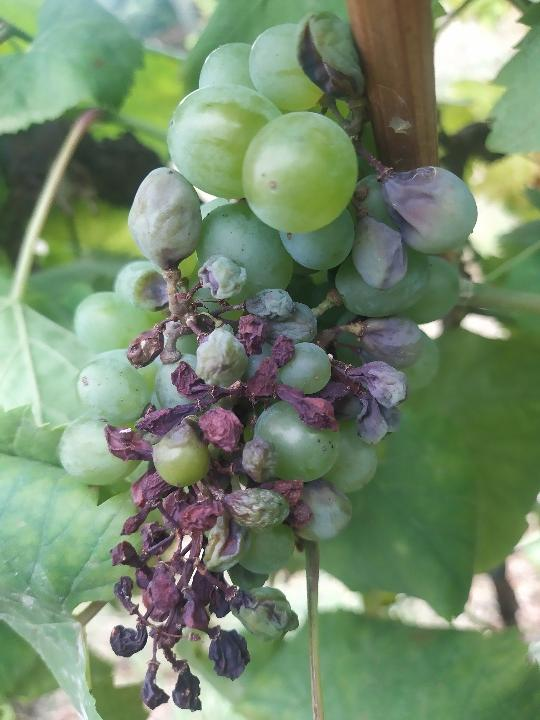grape: (55, 6, 480, 715)
